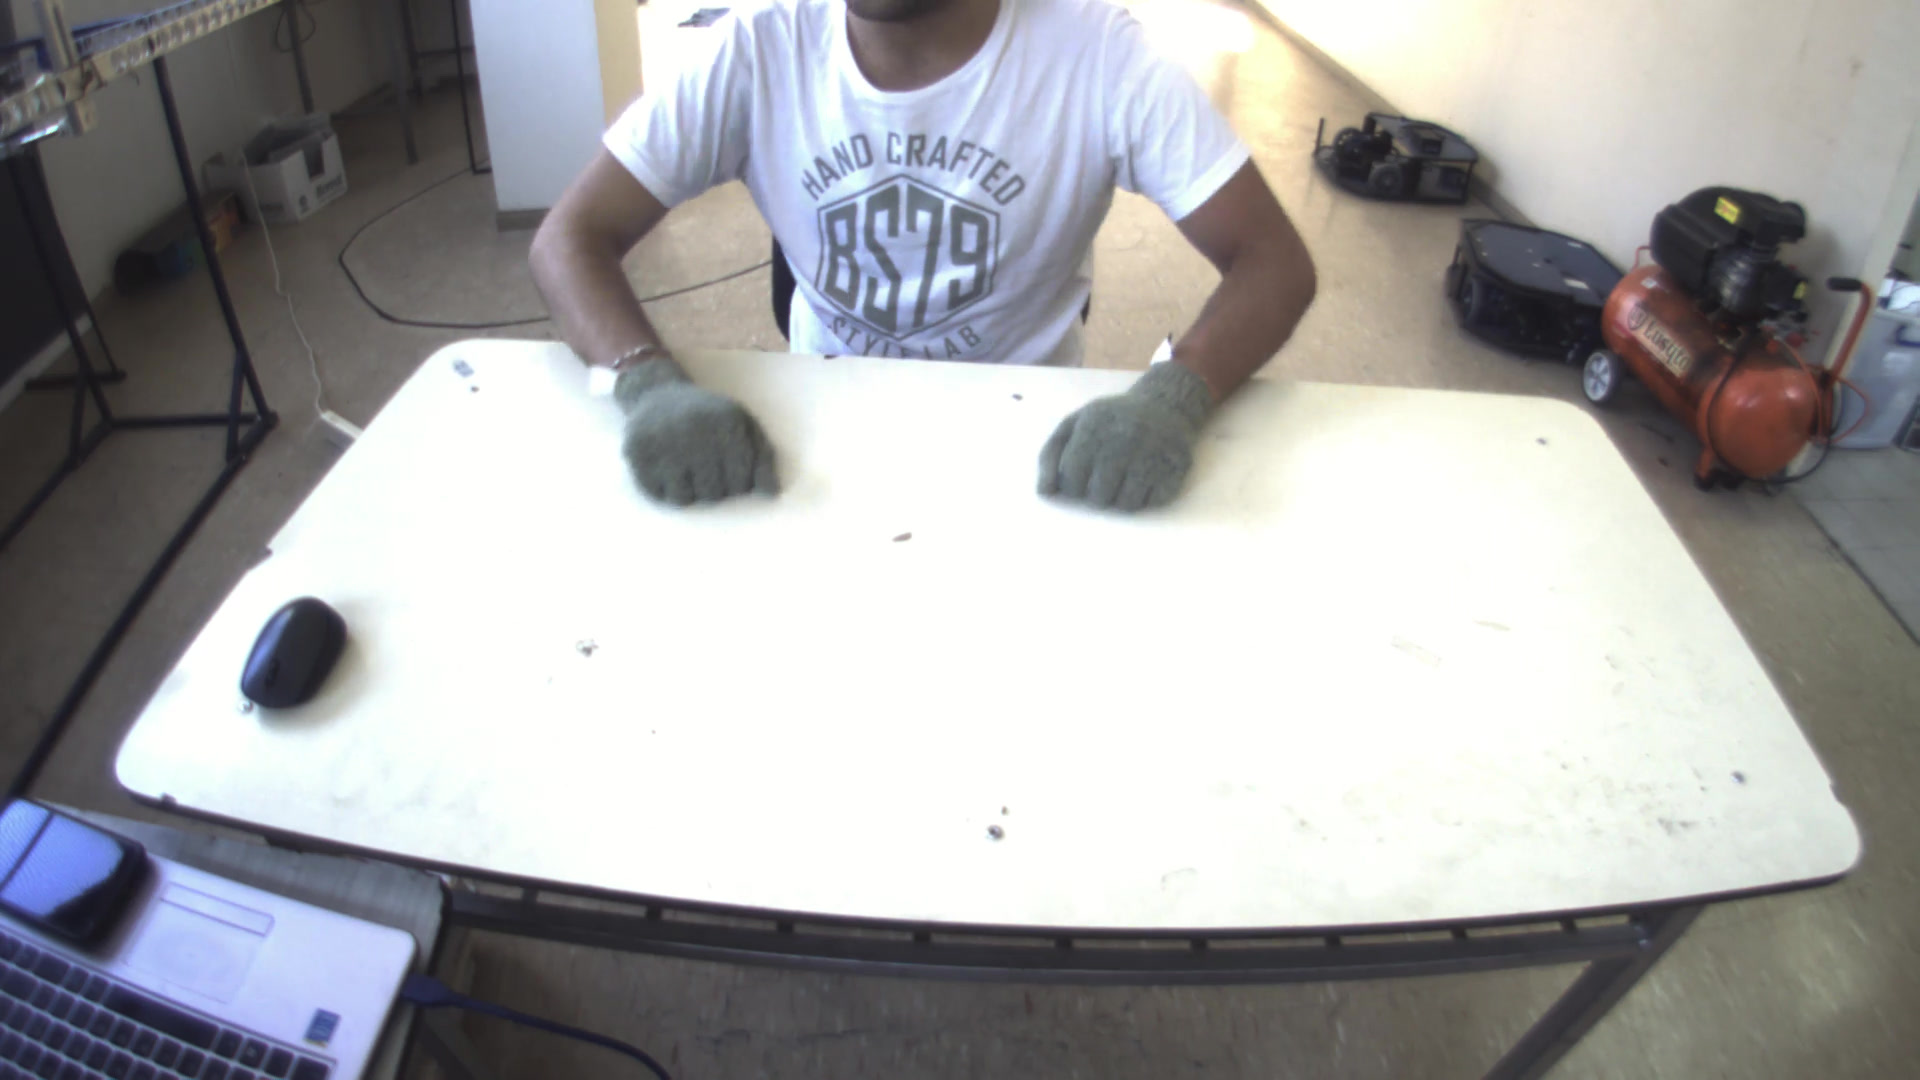hand: (1034, 349, 1222, 520), (597, 347, 771, 506)
